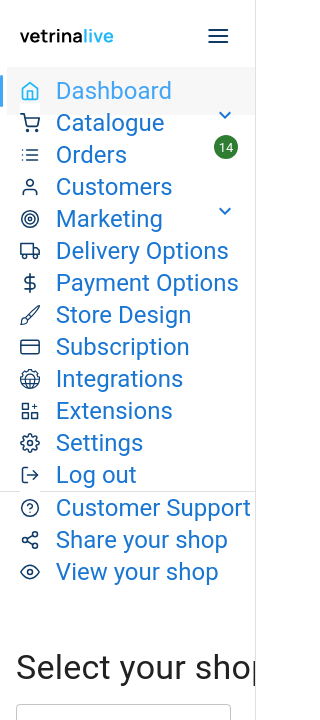
it: Sidebar › render sidebar and see app logo and selec shop disappear when toggle button clicked
This screenshot has width=320, height=720.
Expected: the picture with alt text "logo" is shown, [20,24,114,48]
What coordinates should you click on to do the following:
click the button with test id "sidebar-button"
I would click on:
 (219, 36)
Its box is [206,24,231,48].
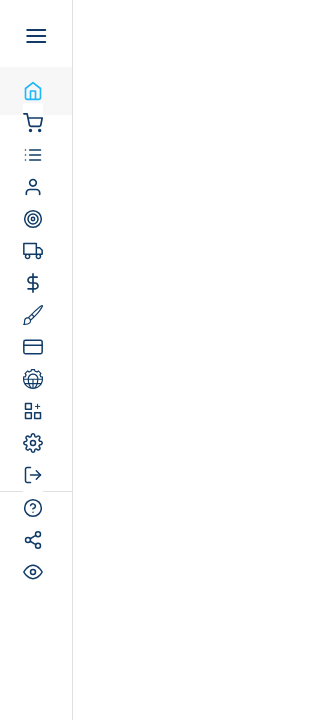
What coordinates should you click on to do the following:
click the button with test id "sidebar-button"
I would click on:
 (36, 36)
Its box is [24,24,48,48].
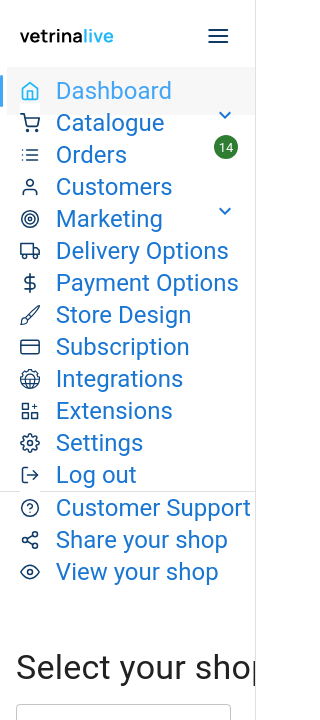
What coordinates should you click on to do the following:
click the button with test id "sidebar-button"
I would click on:
 (219, 36)
Its box is [206,24,231,48].
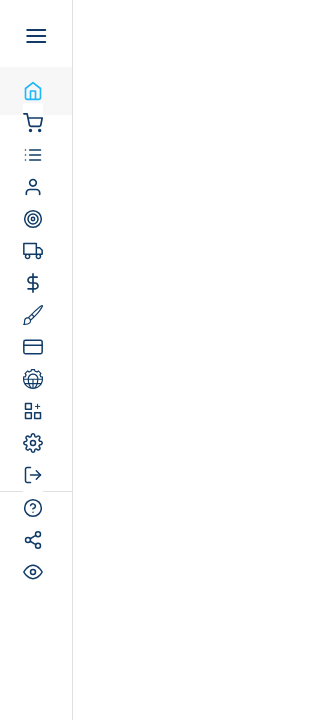
Expected: the picture with alt text "logo" is gone
